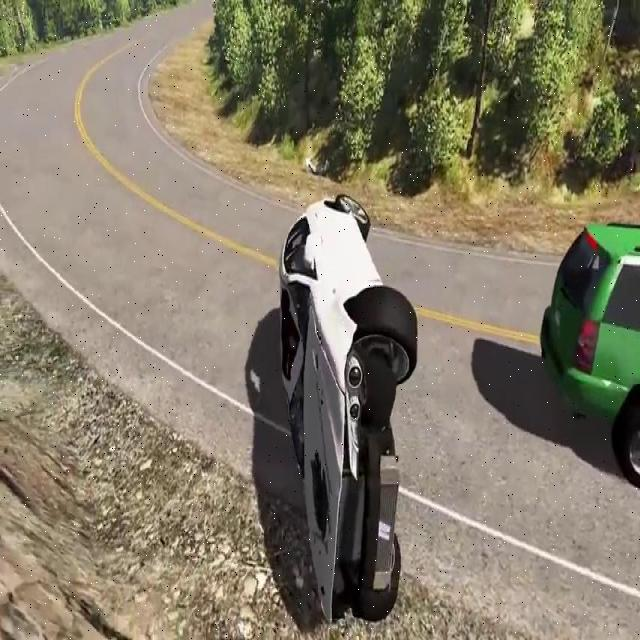severe: (274, 183, 421, 625)
